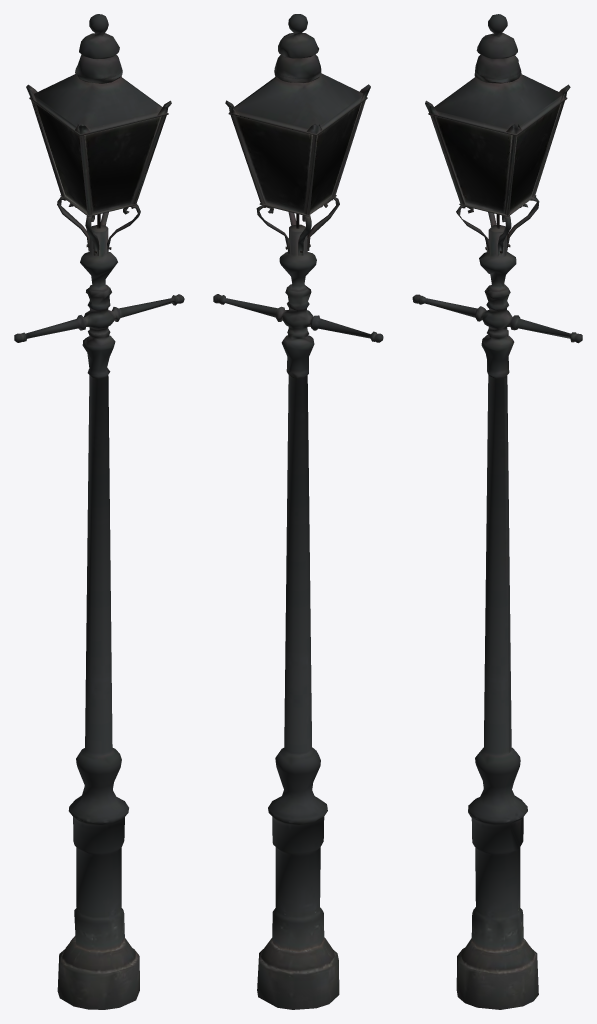
Rendered from street_lamp_01.glb.
3 views of the same model, side by side, from view 1: azimuth 30°, elevation 25°; view 2: azimuth 150°, elevation 25°; view 3: azimuth 330°, elevation 25° (orthographic).
Parts seen in each view (by area): view 1: street_lamp_01; view 2: street_lamp_01; view 3: street_lamp_01.
Part boxes in pixels (left/top/right/bottom): street_lamp_01: left=14, top=14, right=184, bottom=1009; street_lamp_01: left=213, top=14, right=383, bottom=1009; street_lamp_01: left=412, top=14, right=582, bottom=1009.
Bounding box in the file's own units: 0.7006 × 3.87 × 0.386.
Materials: 2 (2 with a texture image).
